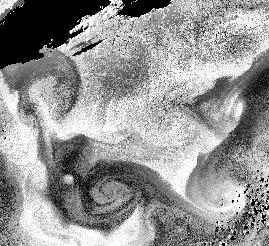CE: (183, 162, 246, 218), (86, 164, 139, 213)
